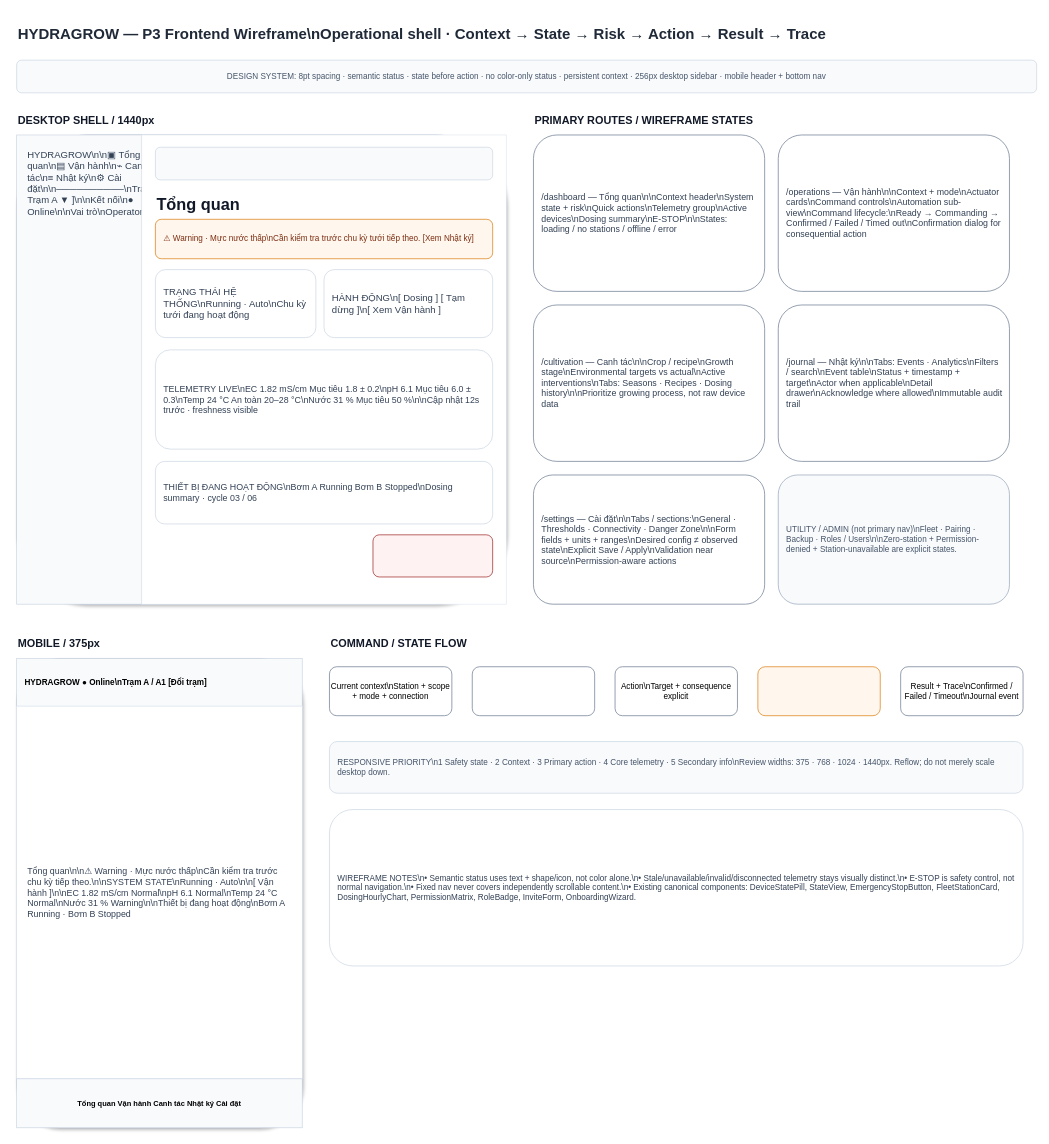
The diagram is 1049 pixels wide and 1144 high, and some of its shapes have lost their labels. The shapes that lost their labels are listed below. From the top down, each one's centre as x and y in pixels, then its label:
(x=324, y=163): Trạm A / Khu A1 ● Online\nChế độ: Tự động [Đổi trạm]
(x=432, y=555): EMERGENCY STOP\n[ DỪNG KHẨN CẤP ]
(x=533, y=691): Current state\nHealthy / Warning / Fault / Offline
(x=818, y=691): Pending\nCommand accepted ≠ physical success
